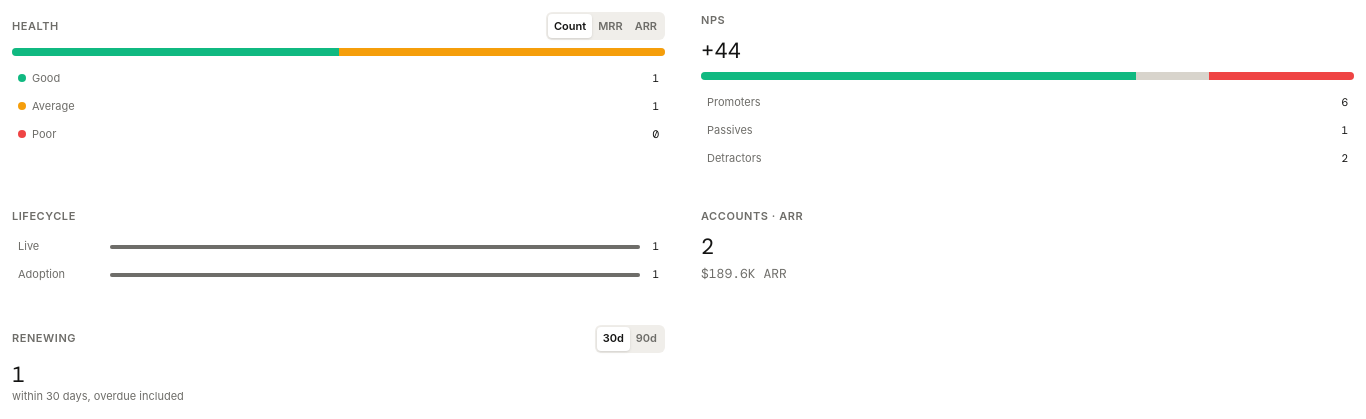
Test: SummaryTiles › switches health between count, MRR and ARR
This screenshot has width=1366, height=419.
Click the button "ARR" at (646, 26), box [629,14,663,38]
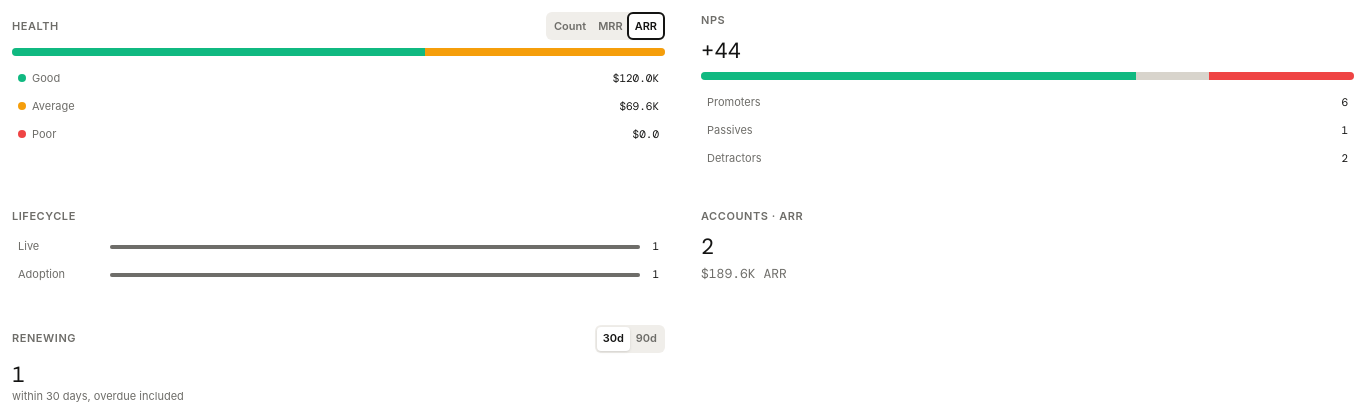
Expected: the button "Average $69.6K" is shown, [12,92,665,120]
Click the button "MRR" at (610, 26), box [592,14,629,38]
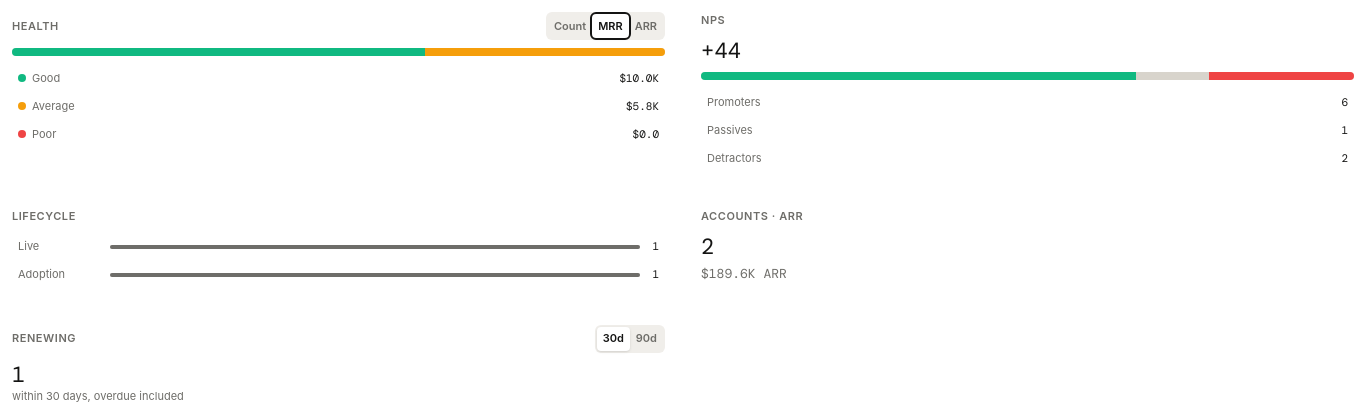
Expected: the button "Average $5.8K" is shown, [12,92,665,120]
